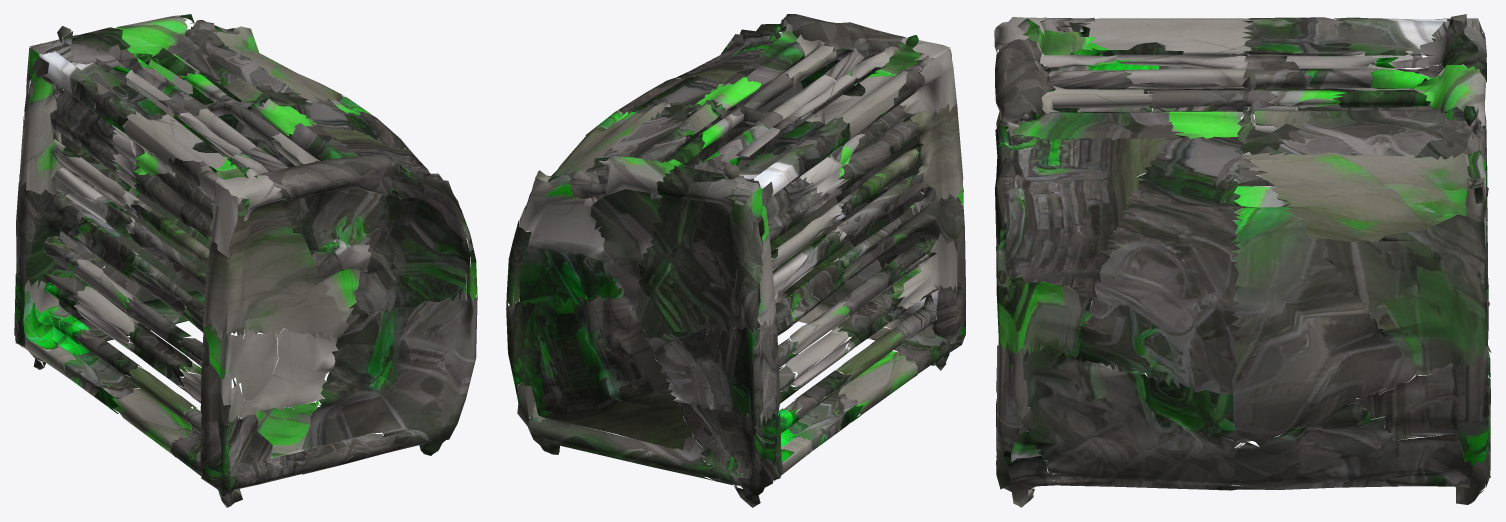
The model's file is prop_wall_janitor_vent_grille.glb.
The picture shows the model from 3 angles, left to right: view 1: azimuth 30°, elevation 25°; view 2: azimuth 150°, elevation 25°; view 3: azimuth 270°, elevation 25°; orthographic projection. The views are drawn at different scales.
Parts seen in each view (by area): view 1: tripo_node_d7d95bb3-d46e-435b-8a67-c5f89036fe12; view 2: tripo_node_d7d95bb3-d46e-435b-8a67-c5f89036fe12; view 3: tripo_node_d7d95bb3-d46e-435b-8a67-c5f89036fe12.
Boxes of the visible parts, x1,y1,x2,y2 form: tripo_node_d7d95bb3-d46e-435b-8a67-c5f89036fe12: (14,14,477,507); tripo_node_d7d95bb3-d46e-435b-8a67-c5f89036fe12: (506,14,965,507); tripo_node_d7d95bb3-d46e-435b-8a67-c5f89036fe12: (994,14,1491,507).
Bounding box in the file's own units: 0.7915 × 0.8782 × 1.
1 material, 1 textured.
